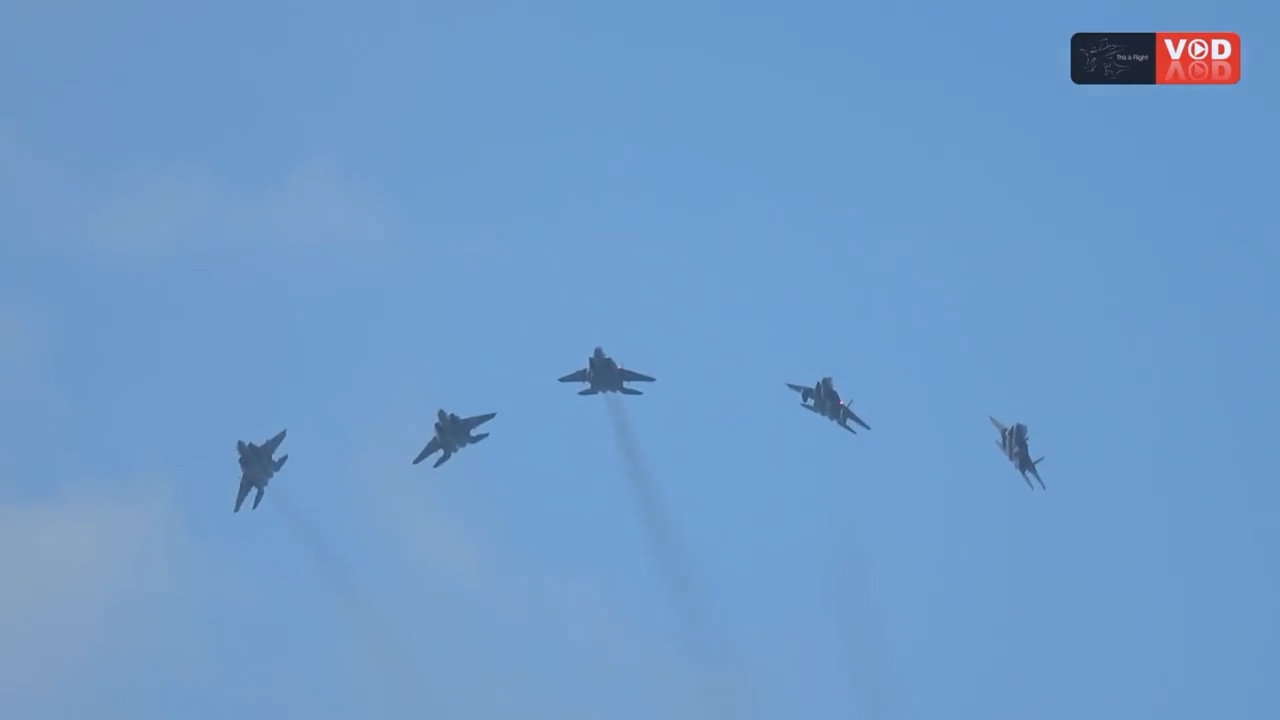f15: (785, 371, 874, 438), (411, 405, 499, 470), (228, 427, 292, 515), (556, 345, 660, 399), (987, 410, 1051, 495)
